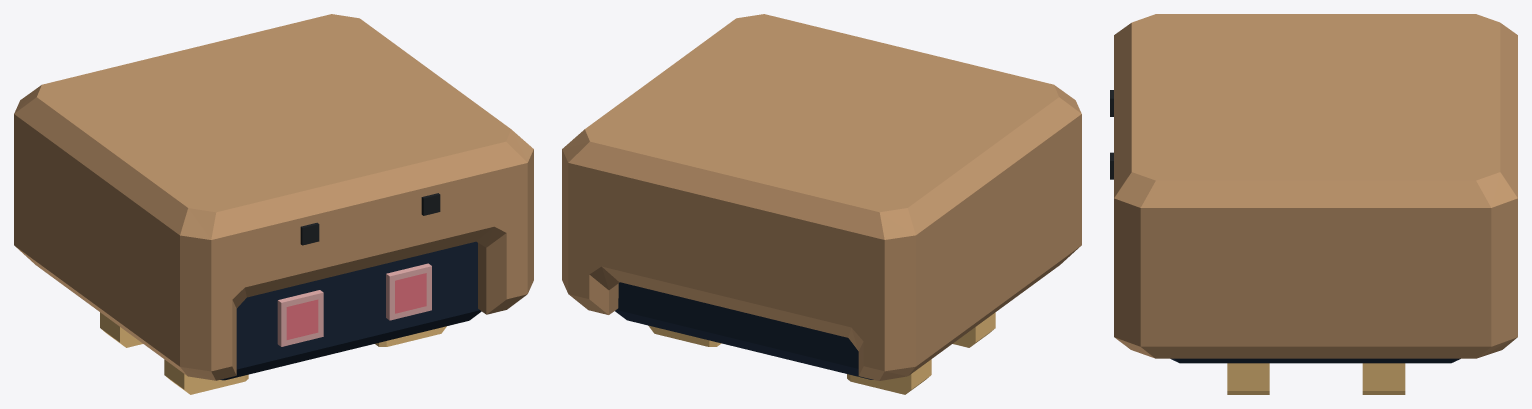
3 views of the same model, side by side, from view 1: azimuth 30°, elevation 25°; view 2: azimuth 150°, elevation 25°; view 3: azimuth 270°, elevation 25° (orthographic). The views are drawn at different scales.
Parts seen in each view (by area): view 1: 0140_kabuto; view 2: 0140_kabuto; view 3: 0140_kabuto.
Boxes of the visible parts, <box> form: 0140_kabuto: <box>14,14,533,394</box>; 0140_kabuto: <box>562,14,1081,394</box>; 0140_kabuto: <box>1110,14,1517,394</box>.
Size of the model in its own units: 1.16 by 0.6889 by 1.09.
Materials: 1 (1 with a texture image).
